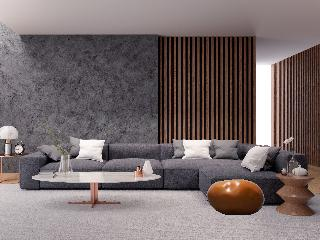potato: (206, 178, 266, 217)
